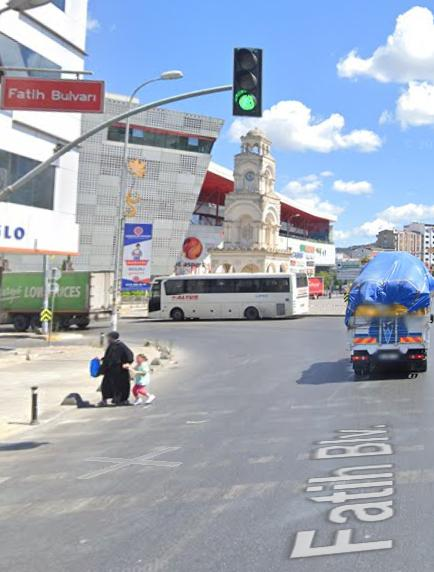greenlight: (233, 47, 260, 117)
